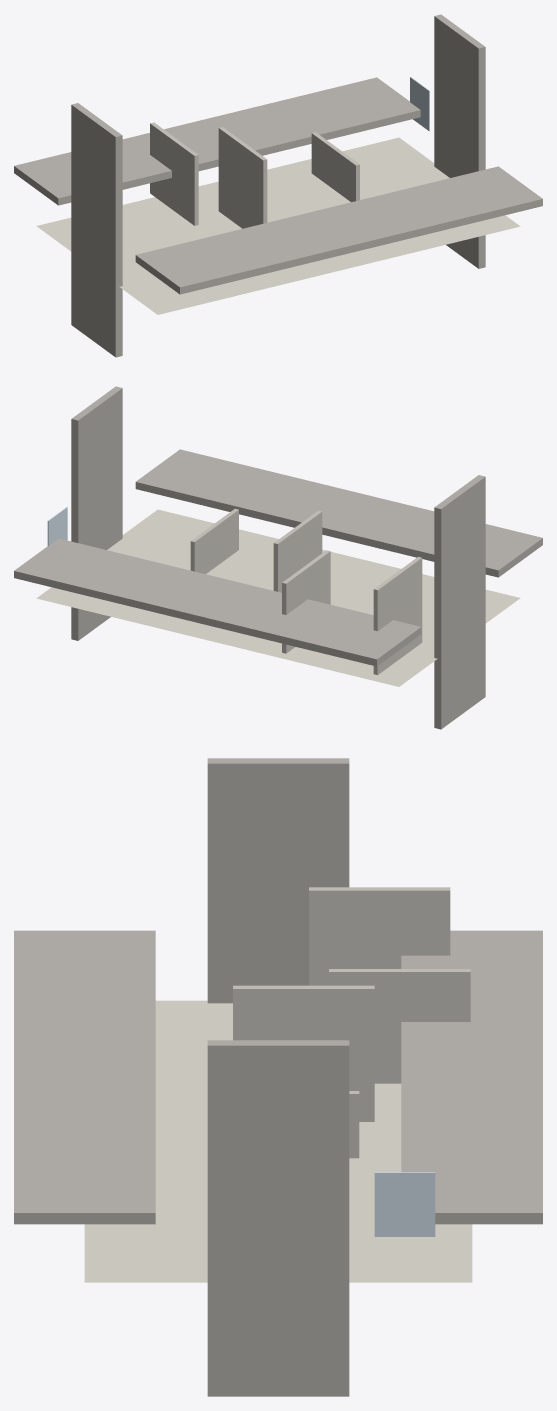
Rendered from villa_3F.glb.
3 renders of one model, top to bottom at view 1: azimuth 30°, elevation 25°; view 2: azimuth 150°, elevation 25°; view 3: azimuth 270°, elevation 25°, orthographic. The views are drawn at different scales.
Parts seen in each view (by area): view 1: ExtWall_N, Slab_3F, ExtWall_S, ExtWall_W, ExtWall_E, IntWall_Stair, IntWall_Closet, Floor_Terrace, IntWall_Elev, Floor_Stair, Win_Bed; view 2: ExtWall_S, ExtWall_N, Slab_3F, ExtWall_W, ExtWall_E, IntWall_Bath, Floor_Terrace, IntWall_Stair, IntWall_Closet, IntWall_Elev, Floor_Bedroom, Floor_Wardrobe (+1 smaller); view 3: ExtWall_E, ExtWall_N, ExtWall_S, Slab_3F, ExtWall_W, IntWall_Bath, IntWall_Stair, Floor_Terrace, IntWall_Closet, Win_Bed, IntWall_Elev.
Part boxes in pixels (x1,y1,x2,y2): ExtWall_N: (135, 166, 542, 294); Slab_3F: (36, 137, 520, 314); ExtWall_S: (14, 77, 420, 205); ExtWall_W: (71, 103, 122, 357); ExtWall_E: (434, 14, 485, 268); IntWall_Stair: (218, 127, 267, 228); IntWall_Closet: (150, 122, 198, 225); Floor_Terrace: (125, 215, 519, 307); IntWall_Elev: (311, 132, 359, 202); Floor_Stair: (137, 224, 220, 248); Win_Bed: (410, 77, 429, 131); ExtWall_S: (14, 538, 421, 666); ExtWall_N: (135, 449, 542, 577); Slab_3F: (36, 509, 520, 686); ExtWall_W: (434, 475, 485, 729); ExtWall_E: (71, 386, 122, 640); IntWall_Bath: (373, 557, 422, 674); Floor_Terrace: (149, 515, 519, 622); IntWall_Stair: (273, 510, 322, 592); IntWall_Closet: (282, 550, 330, 653); IntWall_Elev: (190, 508, 238, 574); Floor_Bedroom: (78, 596, 188, 626); Floor_Wardrobe: (227, 633, 283, 654); ExtWall_E: (207, 1040, 349, 1396); ExtWall_N: (14, 930, 155, 1224); ExtWall_S: (401, 930, 542, 1224); Slab_3F: (84, 1000, 472, 1282); ExtWall_W: (207, 758, 349, 1003); IntWall_Bath: (309, 887, 450, 985); IntWall_Stair: (233, 985, 374, 1121); Floor_Terrace: (86, 1000, 190, 1282); IntWall_Closet: (329, 969, 470, 1083); Win_Bed: (374, 1172, 435, 1236); IntWall_Elev: (349, 1091, 359, 1158).
Bounding box in the file's own units: 13.45 × 7.66 × 10.46.
